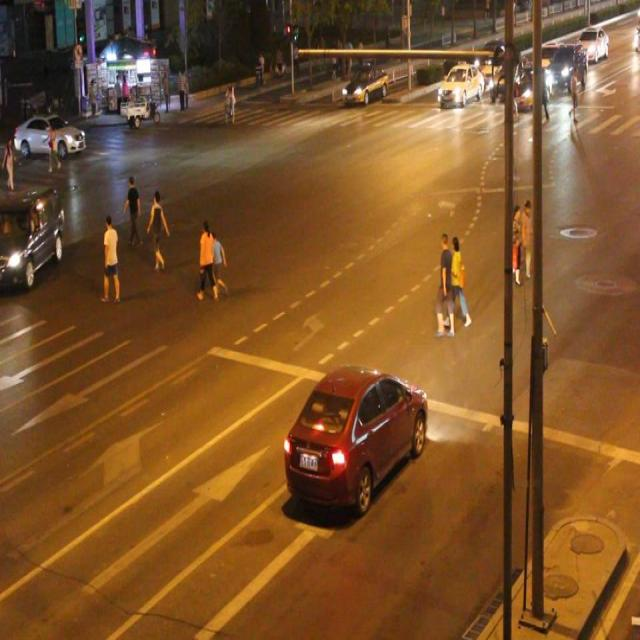car: (284, 362, 428, 516), (1, 187, 66, 282), (12, 112, 86, 156), (435, 64, 482, 104), (343, 65, 386, 106)
